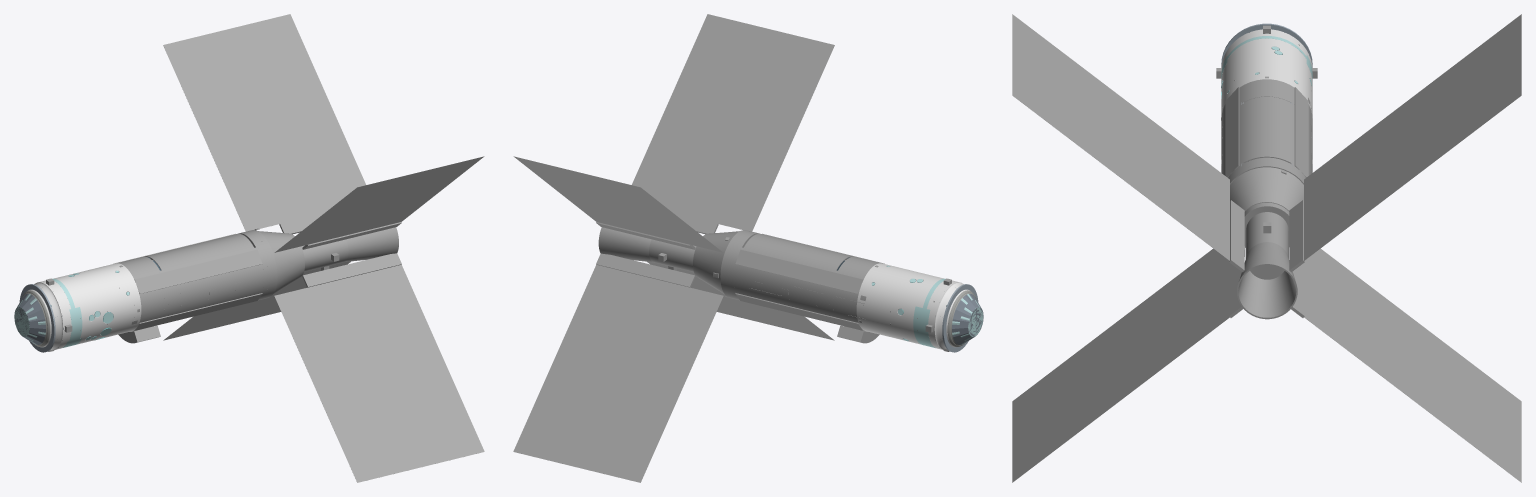
File: wayfarer_parts_v253_88ce19fc.glb
The picture shows the model from 3 angles, left to right: view 1: azimuth 30°, elevation 25°; view 2: azimuth 150°, elevation 25°; view 3: azimuth 270°, elevation 25°; orthographic projection. The views are drawn at different scales.
Visible parts, largest first — view 1: dry:hotfin_220, dry:hotfin_40, dry:hotfin_140, dry:armor, dry:skin_midship, dry:hotfin_320, dry:strake_140, dry:thrust_cone, dry:skin_service, dry:door_port, dry:hotfin_root_220, dry:nozzle (+4 smaller); view 2: dry:hotfin_320, dry:hotfin_140, dry:hotfin_40, dry:armor, dry:skin_midship, dry:hotfin_220, dry:strake_40, dry:skin_service, dry:thrust_cone, dry:door_starboard, dry:hotfin_root_320, dry:nozzle (+4 smaller); view 3: dry:hotfin_140, dry:hotfin_40, dry:hotfin_220, dry:hotfin_320, dry:armor, dry:nozzle, dry:thrust_cone, dry:reactor, dry:door_port, dry:door_starboard, dry:skin_service, dry:strake_40 (+7 smaller).
Part boxes in pixels (<box>): dry:hotfin_220: <box>274,264,484,482</box>; dry:hotfin_40: <box>163,14,365,231</box>; dry:hotfin_140: <box>274,156,484,252</box>; dry:armor: <box>23,263,141,350</box>; dry:skin_midship: <box>160,247,263,316</box>; dry:hotfin_320: <box>163,261,350,340</box>; dry:strake_140: <box>134,249,262,293</box>; dry:thrust_cone: <box>258,231,304,293</box>; dry:skin_service: <box>117,256,168,330</box>; dry:door_port: <box>152,236,253,270</box>; dry:hotfin_root_220: <box>302,253,401,287</box>; dry:nozzle: <box>345,227,398,261</box>; dry:hotfin_320: <box>513,264,723,482</box>; dry:hotfin_140: <box>632,14,834,231</box>; dry:hotfin_40: <box>513,156,723,252</box>; dry:armor: <box>856,263,974,350</box>; dry:skin_midship: <box>734,247,837,316</box>; dry:hotfin_220: <box>647,261,834,340</box>; dry:strake_40: <box>735,249,863,293</box>; dry:skin_service: <box>829,256,880,330</box>; dry:thrust_cone: <box>693,231,739,293</box>; dry:door_starboard: <box>744,236,845,270</box>; dry:hotfin_root_320: <box>596,253,695,287</box>; dry:nozzle: <box>598,227,652,262</box>; dry:hotfin_140: <box>1012,14,1229,260</box>; dry:hotfin_40: <box>1304,14,1521,260</box>; dry:hotfin_220: <box>1012,248,1229,482</box>; dry:hotfin_320: <box>1304,248,1521,482</box>; dry:armor: <box>1221,29,1312,117</box>; dry:nozzle: <box>1237,242,1297,319</box>; dry:thrust_cone: <box>1230,167,1303,247</box>; dry:reactor: <box>1245,212,1288,279</box>; dry:door_port: <box>1242,97,1266,163</box>; dry:door_starboard: <box>1267,97,1291,163</box>; dry:skin_service: <box>1221,79,1312,135</box>; dry:strake_40: <box>1294,87,1308,177</box>.
Bounding box in the file's own units: 54.5 × 42.11 × 50.18.
